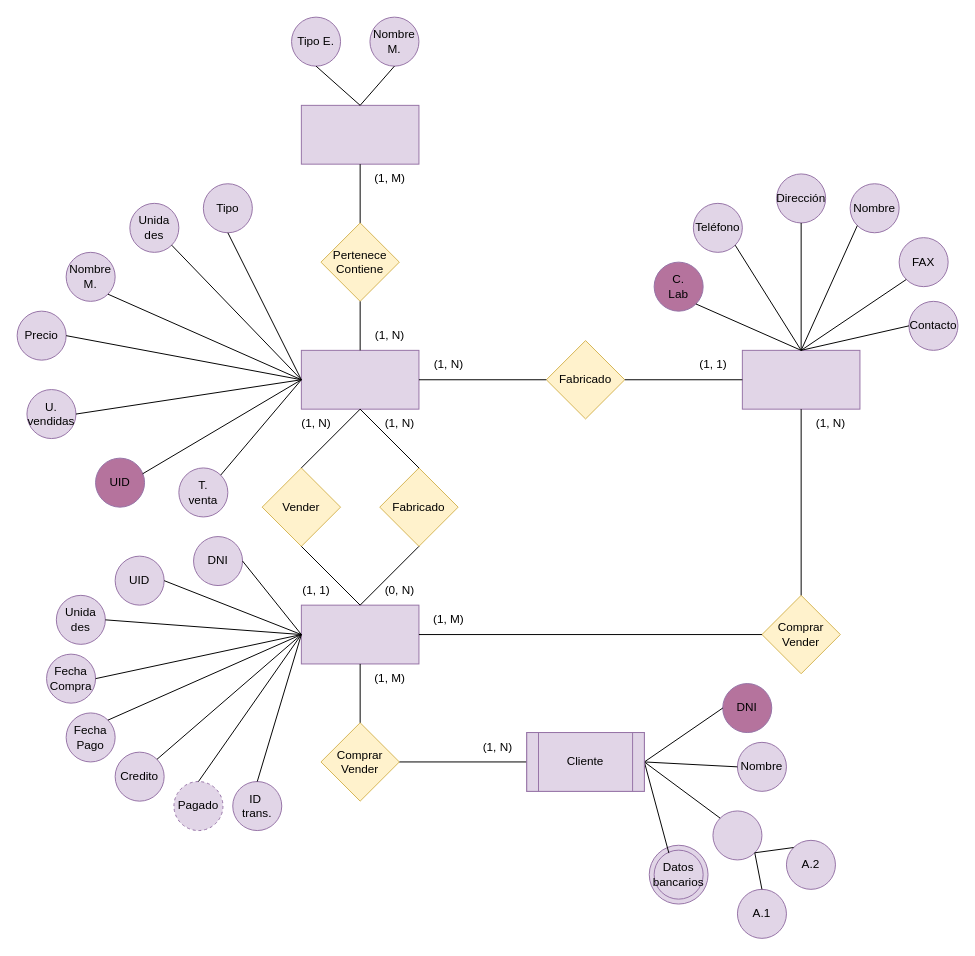
The diagram is 975 pixels wide and 956 high, and some of its shapes have lost their labels. The centre of each missing label's shape, as x and y in pixels:
Apellidos: (x=737, y=835)
Familia: (x=359, y=134)
Farmacia: (x=359, y=634)
Laboratorio: (x=800, y=379)
Medicamento: (x=359, y=379)
